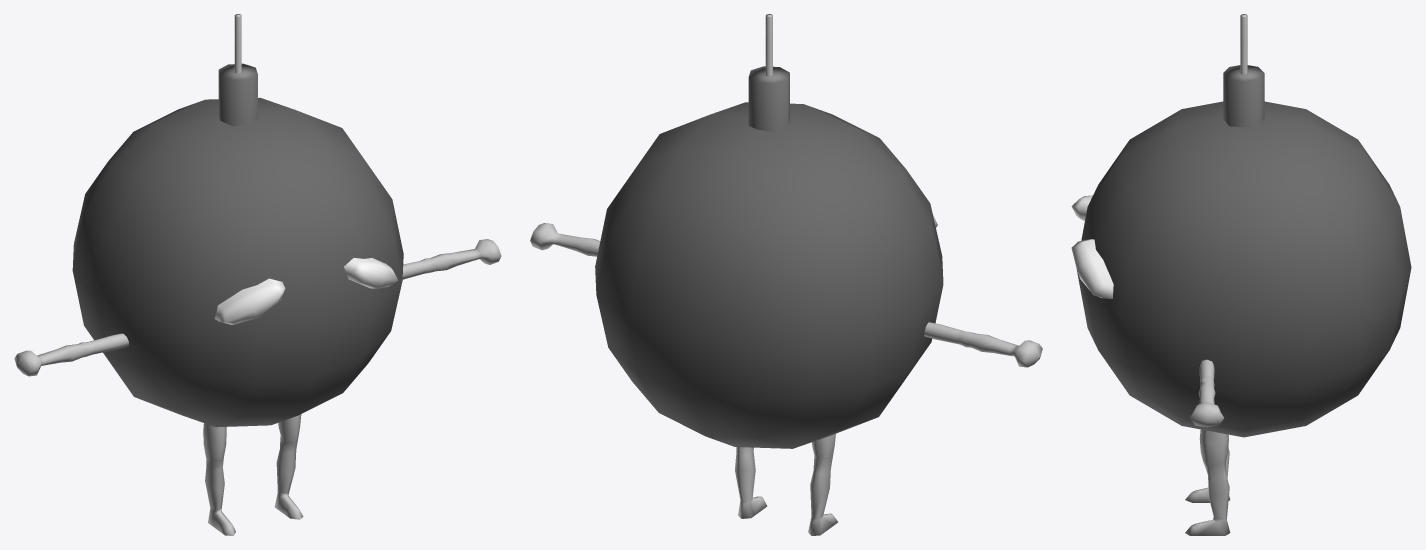
The model's file is Bomb_Model.fbx.
3 views of the same model, side by side, from view 1: azimuth 30°, elevation 25°; view 2: azimuth 150°, elevation 25°; view 3: azimuth 270°, elevation 25° (orthographic). The views are drawn at different scales.
Visible parts, largest first — view 1: body, asi, te, me, tutu; view 2: body, asi, te, tutu; view 3: body, asi, tutu, me, te, sen.
Part boxes in pixels (x1,y1,x2,y2): body: (72,97,403,427); asi: (203,414,303,535); te: (14,239,501,376); me: (214,258,398,324); tutu: (218,63,257,126); body: (595,102,943,448); asi: (735,434,838,535); te: (530,223,1042,367); tutu: (748,66,789,131); body: (1077,101,1411,437); asi: (1185,429,1230,535); tutu: (1223,65,1264,127); me: (1071,195,1113,298); te: (1190,359,1223,427); sen: (1240,14,1247,74).
Size of the model in its own units: 10.41 by 10.14 by 6.24.
